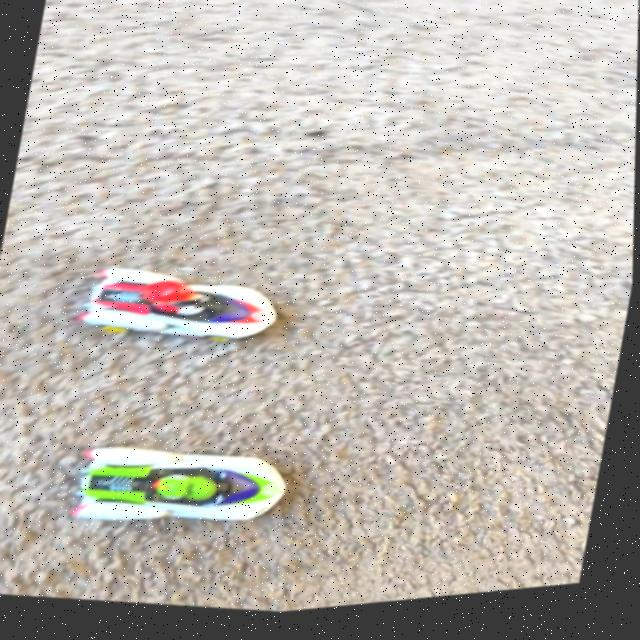mario: (66, 247, 297, 384)
yoshi: (57, 411, 314, 578)
